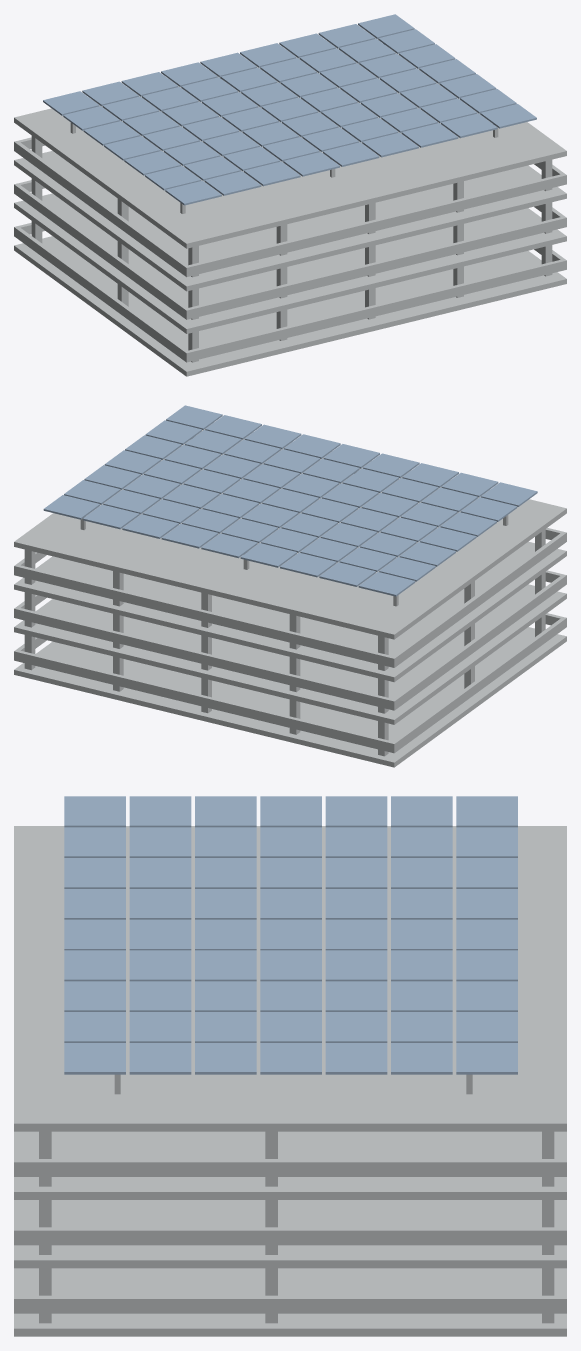
File: modelo.glb
The picture shows the model from 3 angles, top to bottom: view 1: azimuth 30°, elevation 25°; view 2: azimuth 150°, elevation 25°; view 3: azimuth 270°, elevation 25°; orthographic projection. The views are drawn at different scales.
Visible parts, largest first — view 1: losa (×4), panel_cubierta (×63), antepecho_frontal (×3), antepecho_lateral (×3), columna (×7); view 2: losa (×4), panel_cubierta (×63), antepecho_posterior (×3), antepecho_lateral (×3), columna (×7); view 3: losa (×4), panel_cubierta (×63), antepecho_lateral (×3), columna (×3).
Part boxes in pixels (left/top/right/bottom): losa (×4): left=14, top=32, right=566, bottom=376; panel_cubierta (×63): left=43, top=14, right=536, bottom=205; antepecho_frontal (×3): left=184, top=174, right=566, bottom=362; antepecho_lateral (×3): left=14, top=142, right=190, bottom=362; columna (×7): left=31, top=136, right=552, bottom=362; losa (×4): left=14, top=423, right=566, bottom=767; panel_cubierta (×63): left=43, top=405, right=537, bottom=596; antepecho_posterior (×3): left=14, top=565, right=396, bottom=753; antepecho_lateral (×3): left=390, top=531, right=566, bottom=752; columna (×7): left=24, top=529, right=545, bottom=756; losa (×4): left=14, top=826, right=566, bottom=1336; panel_cubierta (×63): left=64, top=796, right=517, bottom=1074; antepecho_lateral (×3): left=14, top=1159, right=566, bottom=1313; columna (×3): left=39, top=1131, right=554, bottom=1323.
Size of the model in its own units: 28 by 11.12 by 22.
